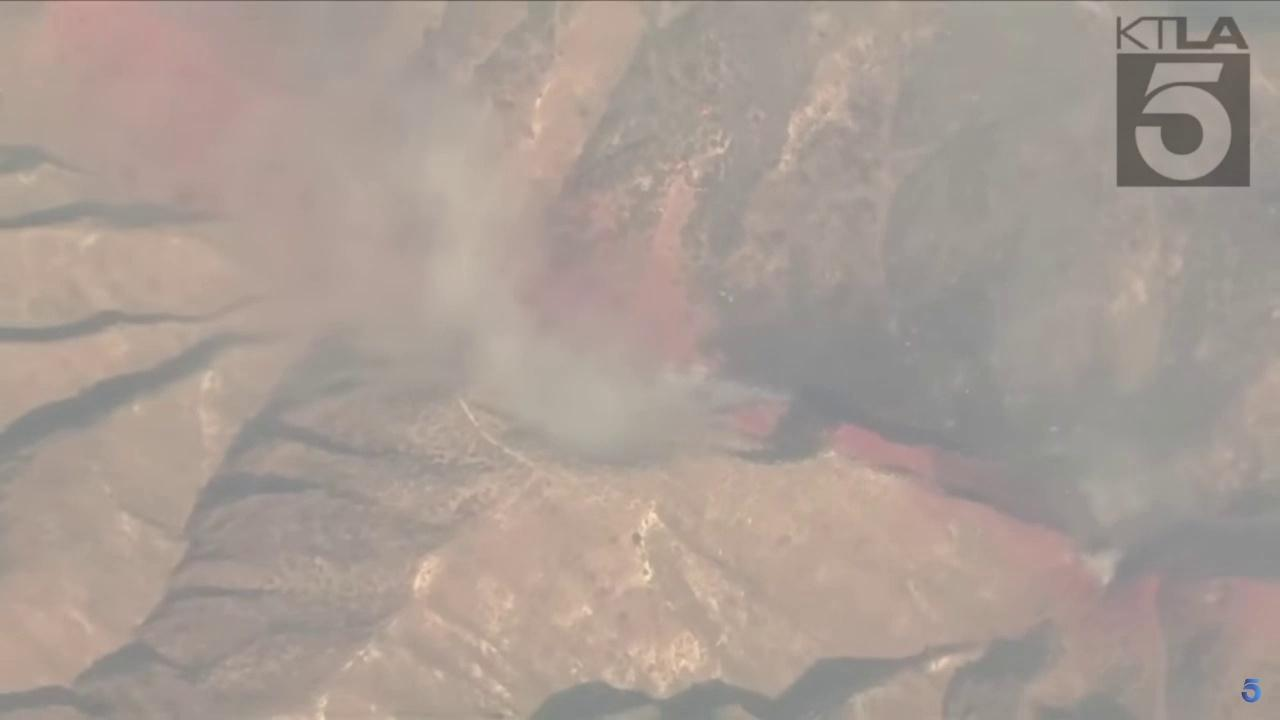smoke: (206, 0, 799, 460), (1072, 444, 1158, 525), (1081, 544, 1125, 588)
